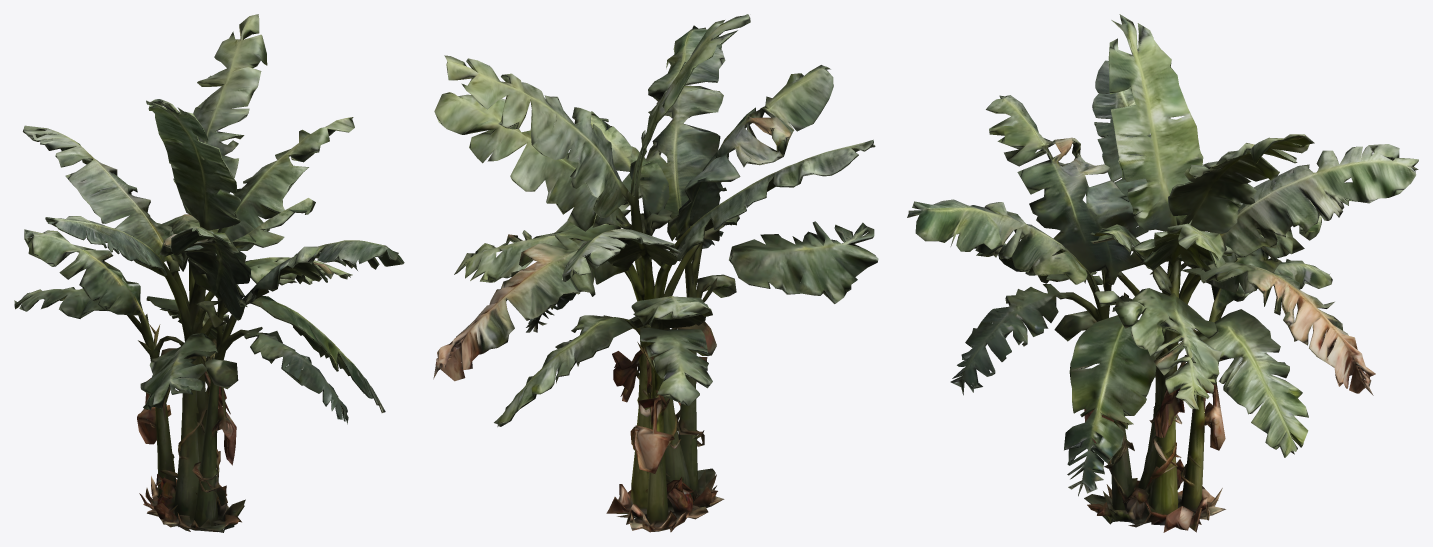
File: banana_plant.fbx
3 views of the same model, side by side, from view 1: azimuth 30°, elevation 25°; view 2: azimuth 150°, elevation 25°; view 3: azimuth 270°, elevation 25° (orthographic). The views are drawn at different scales.
Parts seen in each view (by area): view 1: banana_plant; view 2: banana_plant; view 3: banana_plant.
Part boxes in pixels (left/top/right/bottom): banana_plant: left=14, top=14, right=404, bottom=532; banana_plant: left=433, top=14, right=878, bottom=532; banana_plant: left=907, top=14, right=1418, bottom=532.
Size of the model in its own units: 2.46 by 3 by 2.95.
1 material, 1 textured.
